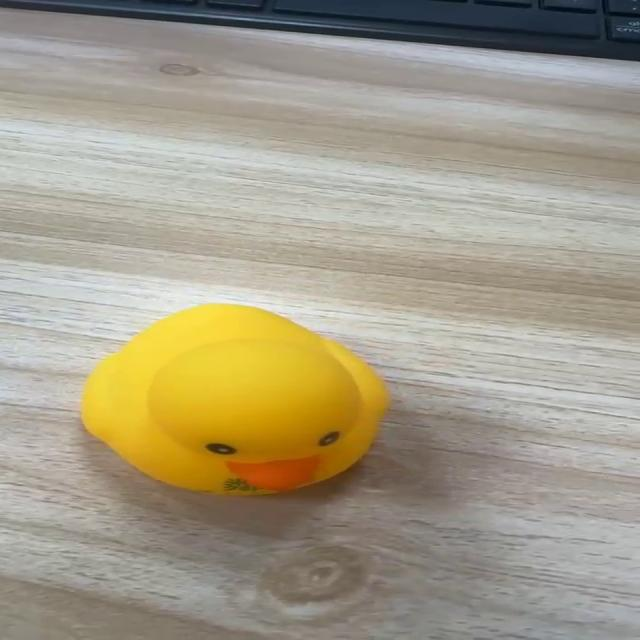yellow_duck: (78, 301, 391, 497)
